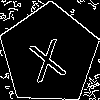X: (24, 29, 68, 83)
